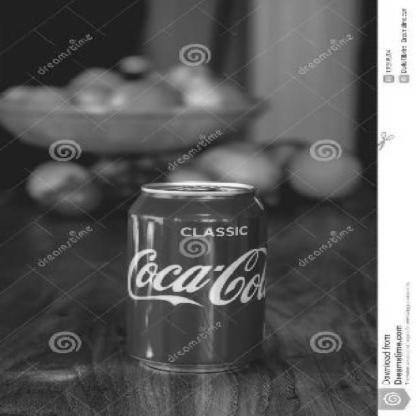alumunium_can: (126, 181, 270, 372)
